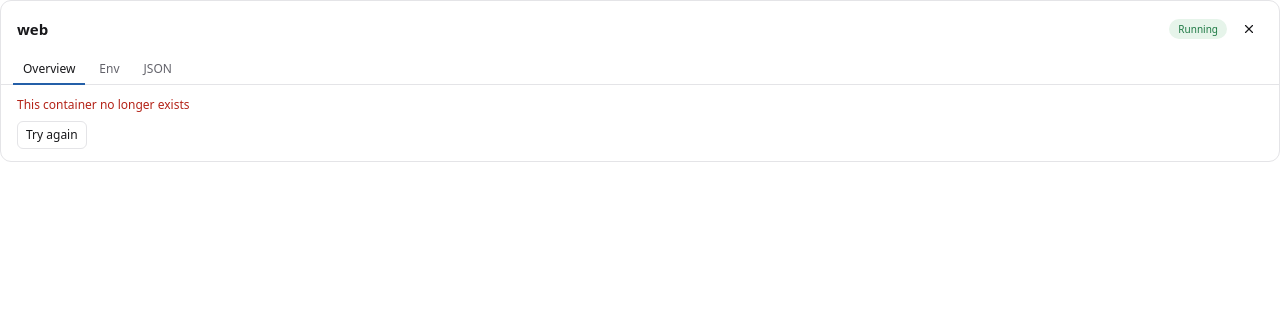
Test: ContainerDetailsPanel › inspect error shows message and Try again retries
Check: the text "This container no longer exists" is shown, box [17, 97, 190, 113]
Step 1. Click the button "Try again" → (52, 135), box [17, 121, 87, 149]
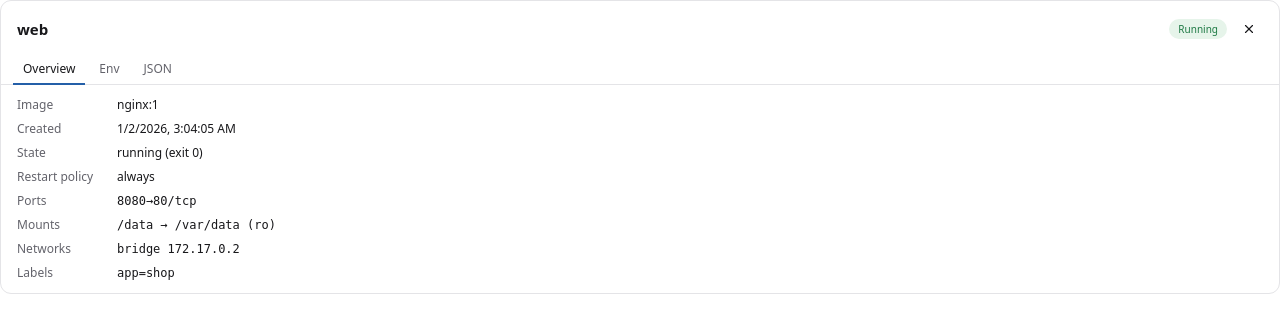
Check: the text "nginx:1" is shown, box [117, 96, 159, 113]
Check: the text "This container no longer exists" is gone
